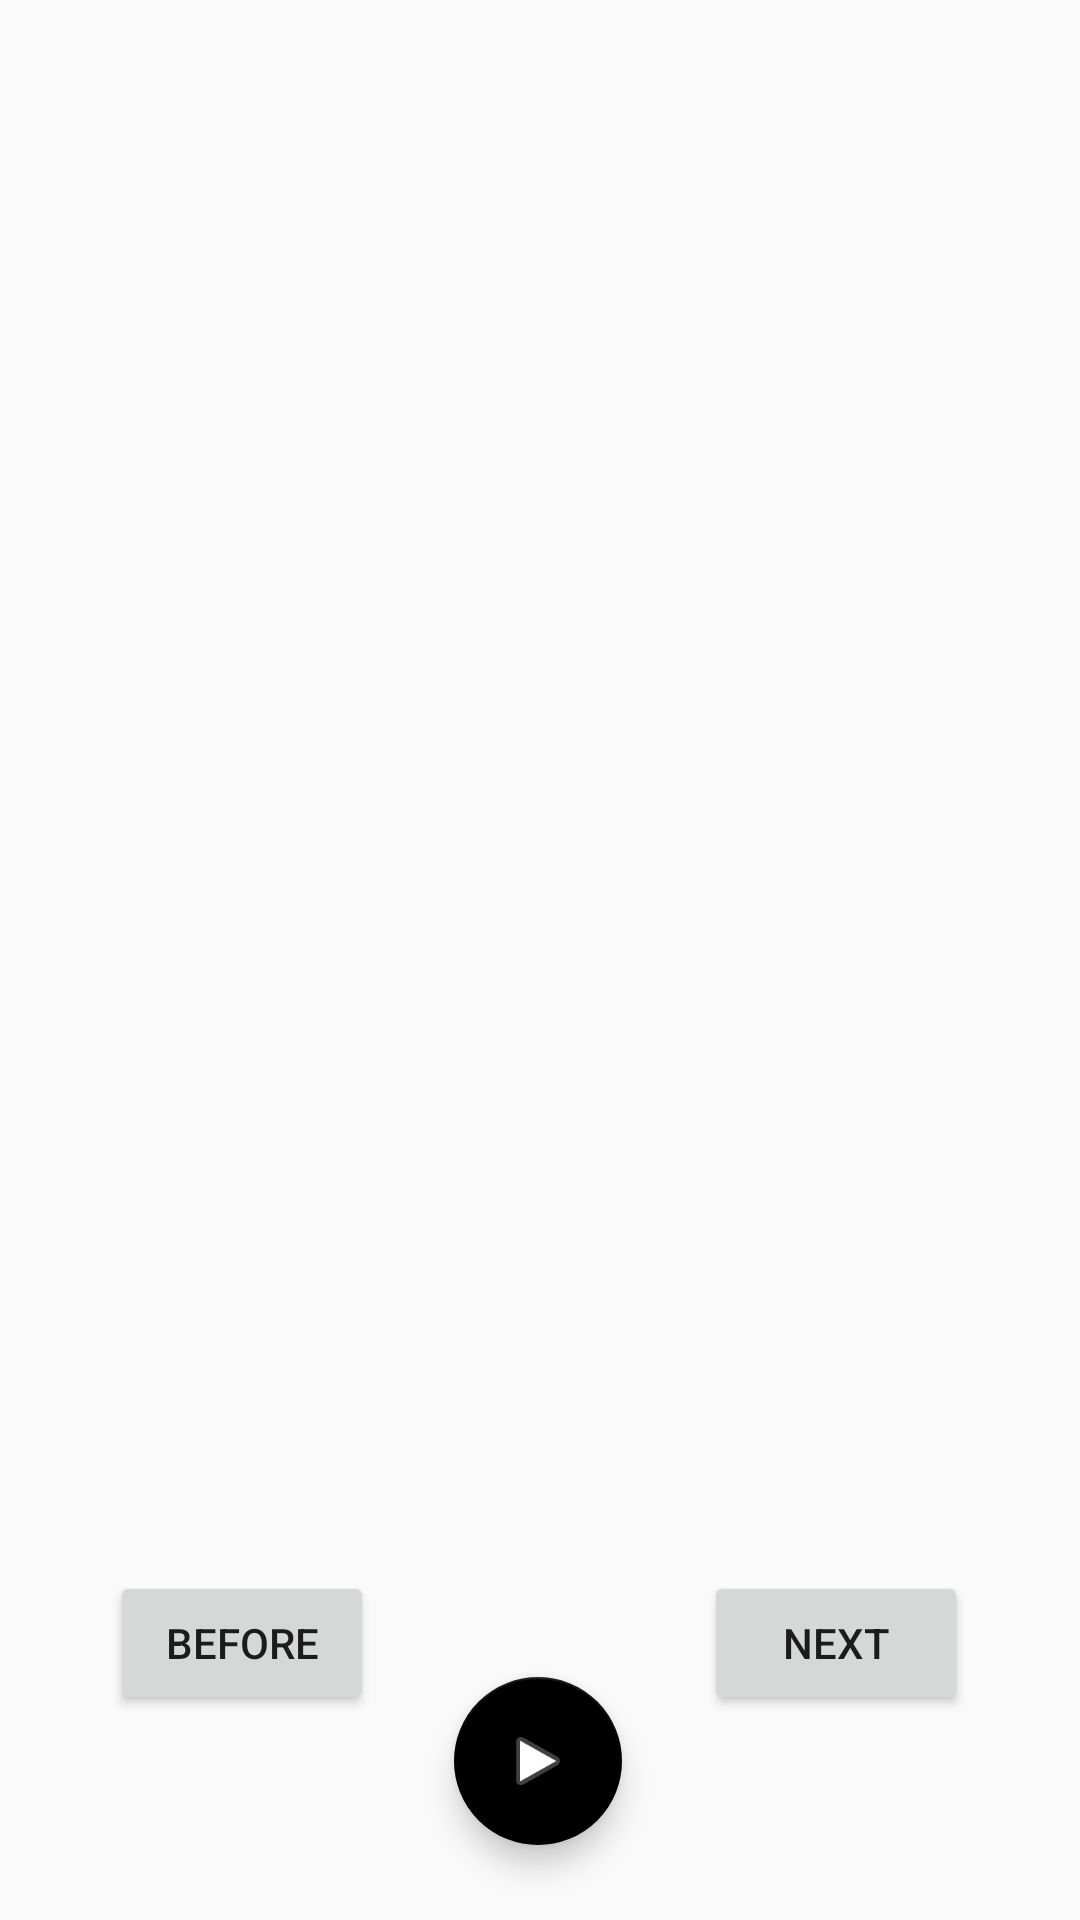

Where icons sit on this 1080*1920 app screen, as (x1, y1, x2, y2):
play: (454, 1677, 622, 1845)
